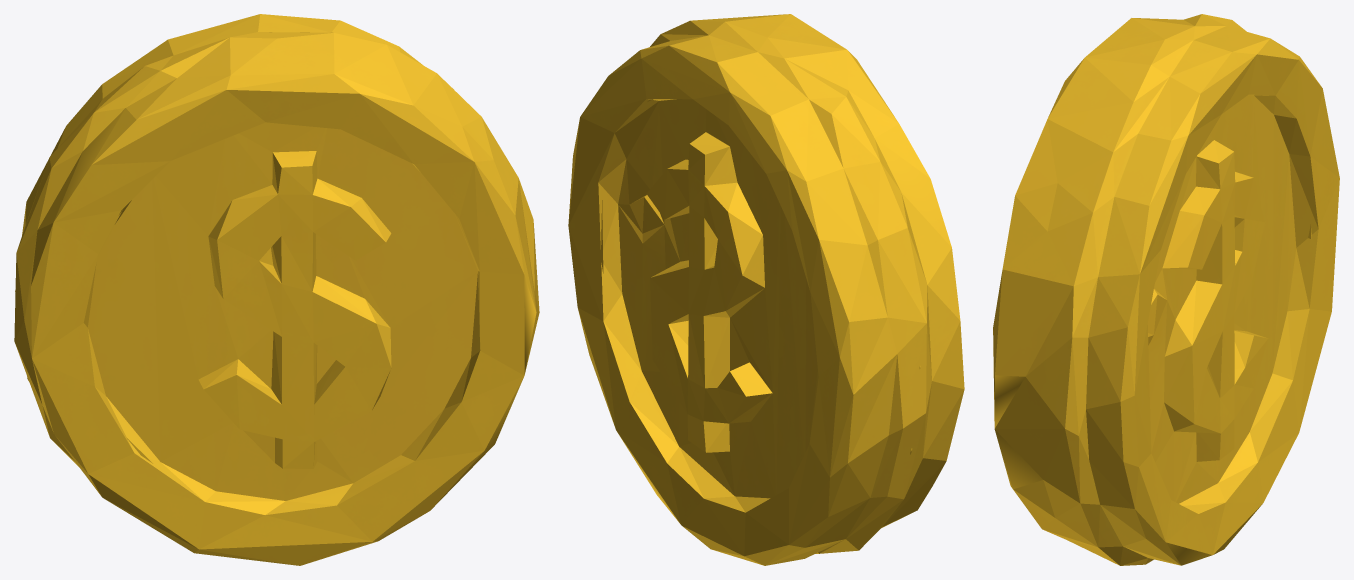
File: coin.fbx
3 views of the same model, side by side, from view 1: azimuth 30°, elevation 25°; view 2: azimuth 150°, elevation 25°; view 3: azimuth 270°, elevation 25° (orthographic).
Parts seen in each view (by area): view 1: Mesh_0; view 2: Mesh_0; view 3: Mesh_0.
Boxes of the visible parts, x1=… form: Mesh_0: x1=14, y1=14, x2=539, y2=565; Mesh_0: x1=568, y1=14, x2=964, y2=565; Mesh_0: x1=993, y1=14, x2=1339, y2=565.
Size of the model in its own units: 0.9079 by 1 by 0.6205.
1 material, 1 textured.
